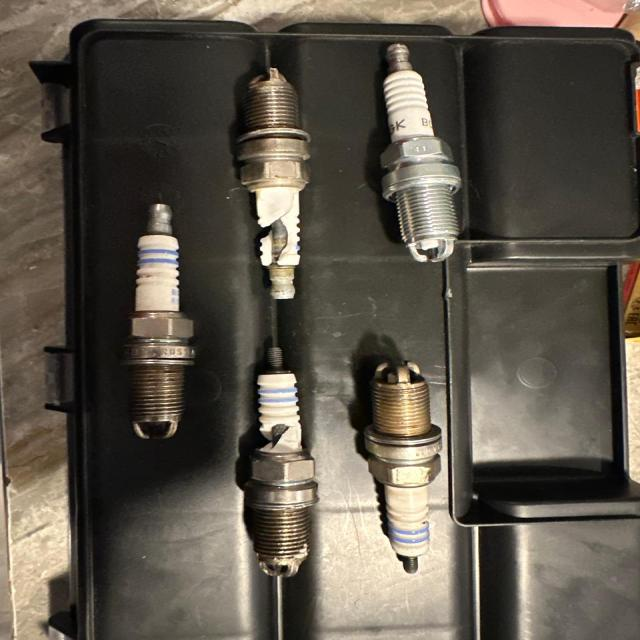damaged_spark-plug: (235, 62, 316, 304), (245, 341, 316, 579)
spark-plug: (373, 41, 464, 254), (118, 200, 194, 441), (364, 363, 443, 579)
